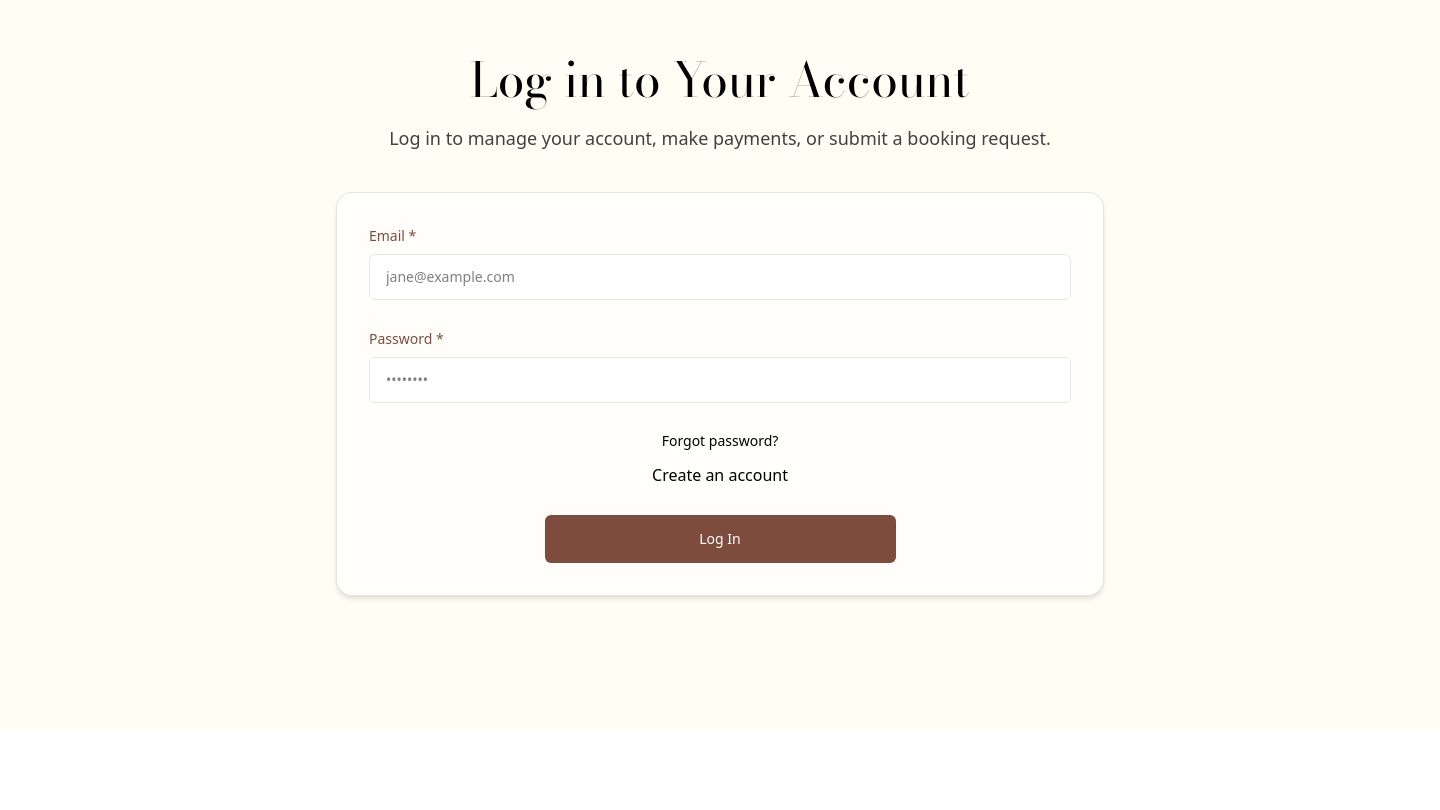
it: Login › shows validation errors when submitting empty form
The width and height of the screenshot is (1440, 810).
Click the button with aria-label "login-button" at (720, 539), box [544,515,896,563]
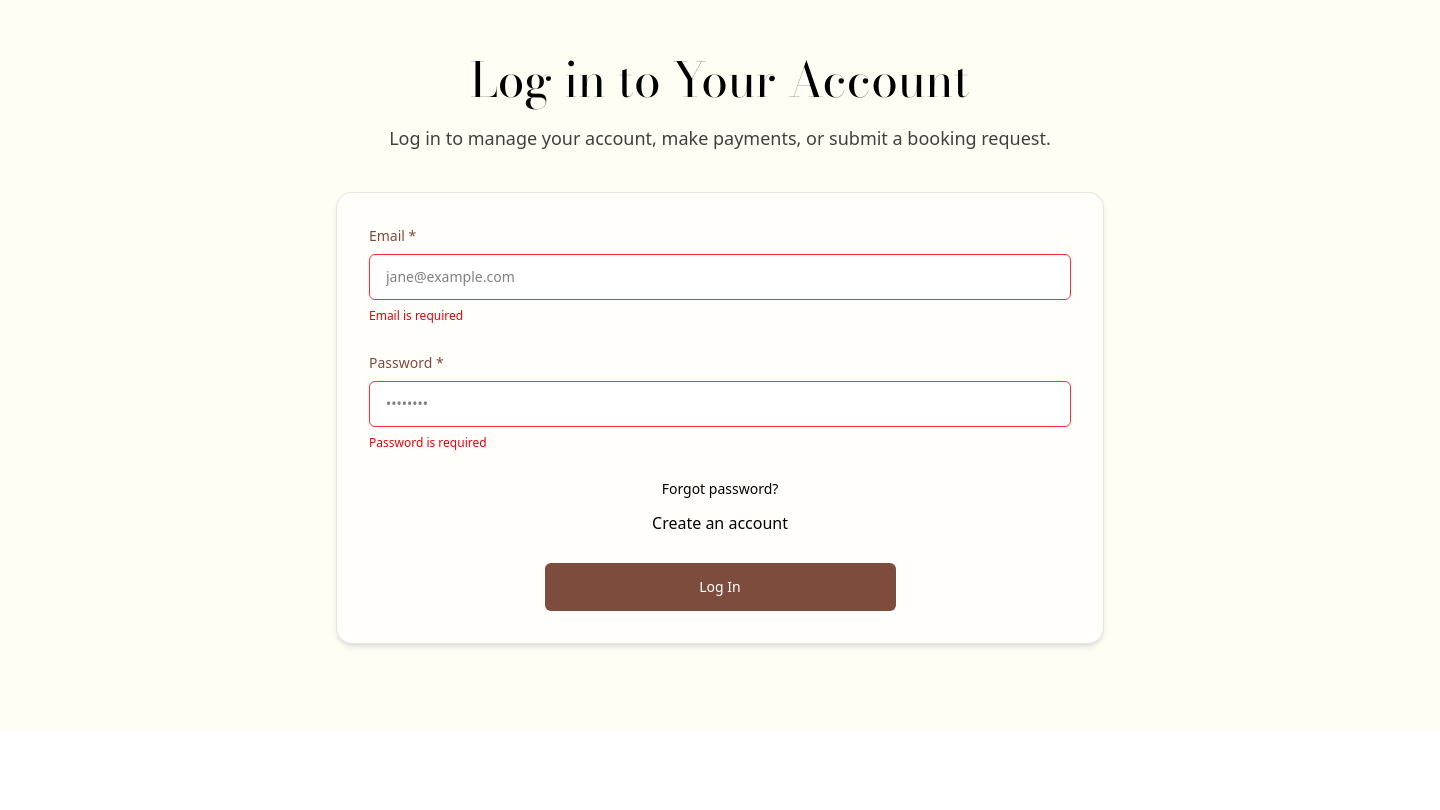
Result: the text "Email is required" is shown at [369,307,463,324]
Result: the text "Password is required" is shown at [369,434,487,451]
